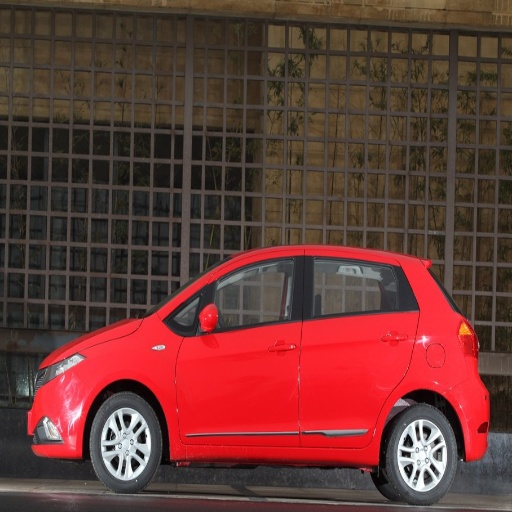back_left_door: (301, 252, 419, 447)
front_left_door: (177, 251, 304, 445)
